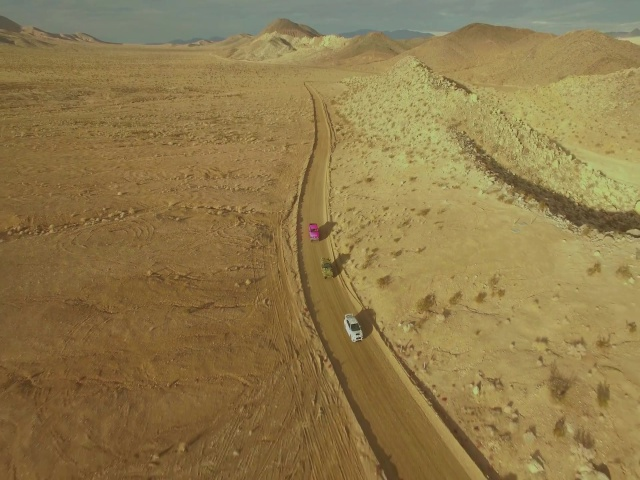vehicle: (343, 312, 363, 343), (320, 257, 334, 280), (307, 221, 320, 244)
